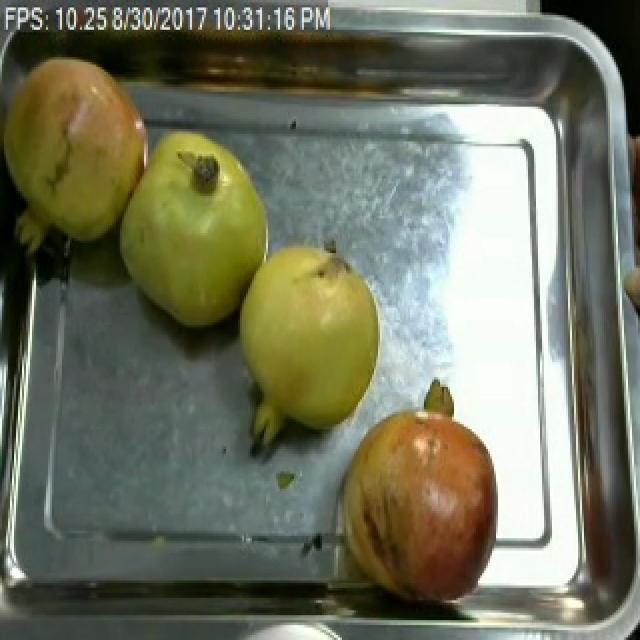fruit: (100, 116, 286, 340), (0, 40, 174, 273), (330, 387, 506, 615), (226, 226, 390, 442)
